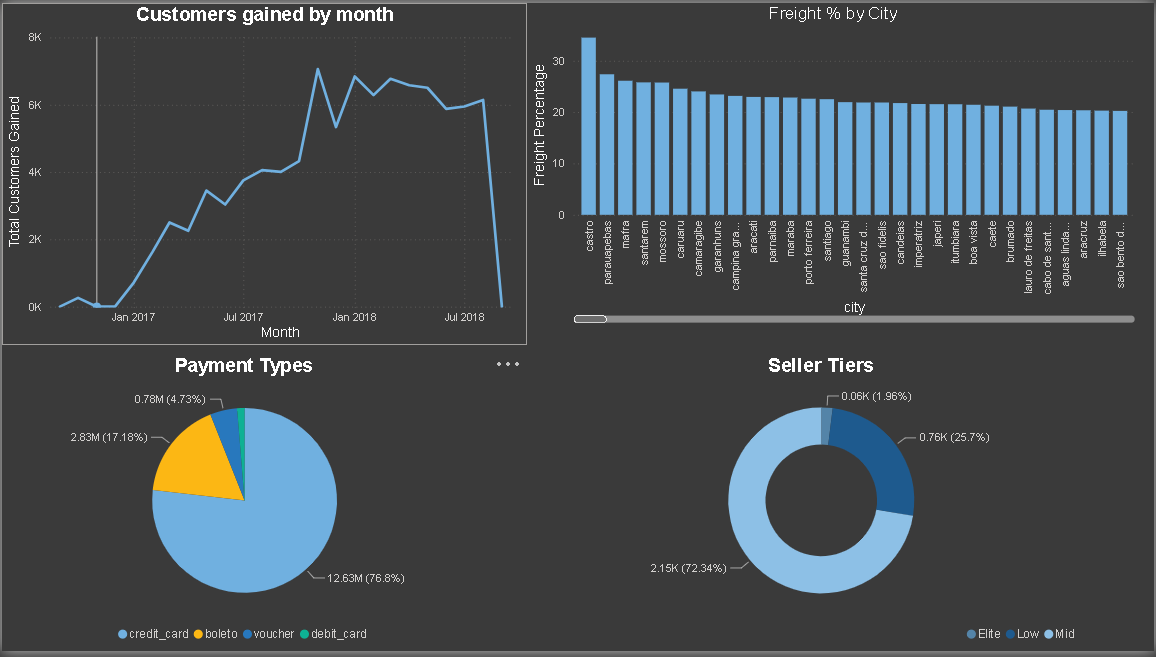

Layout of this report page (visuals, bound fields, positions):
{"tool":"powerbi","page":{"name":"Page 1","canvas":[1280,720],"ordinal":0},"visuals":[{"type":"lineChart","title":"Customers gained by month","fields":{"Category":["olist1.cohort_month.Variation.Date Hierarchy.Year","olist1.cohort_month.Variation.Date Hierarchy.Month"],"Y":["Sum(olist1.total_customers_gained)"]},"box":[0,0,584.1,380.1],"z":0},{"type":"pieChart","title":"Payment Types","fields":{"Category":["olist3.payment_type"],"Y":["Sum(olist3.total_revenue)"]},"box":[0,390,538.3,330],"z":1000},{"type":"donutChart","title":"Seller Tiers","fields":{"Category":["olist2.seller_tier"],"Y":["CountNonNull(olist2.seller_tier)"]},"box":[618.3,390,583.3,330],"z":2000},{"type":"lineClusteredColumnComboChart","title":"Freight % by City","fields":{"Category":["olist4.city"],"Y":["Sum(olist4.freight_percentage)"]},"box":[583.3,0,680,360],"z":3000}]}

Visuals, with their boxes in screenshot pixels (x1, y1, x2, y2), scaled from the page's 1280x720 canvas onto the 1156x657 screenshot:
"Customers gained by month" lineChart: bbox(0, 0, 528, 347)
"Payment Types" pieChart: bbox(0, 356, 486, 656)
"Seller Tiers" donutChart: bbox(558, 356, 1085, 656)
"Freight % by City" lineClusteredColumnComboChart: bbox(527, 0, 1141, 328)
